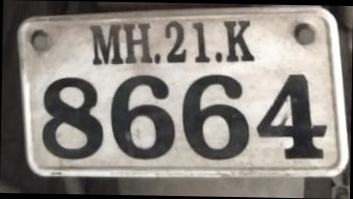character: (255, 72, 328, 158), (181, 73, 250, 160), (110, 72, 176, 160), (40, 75, 103, 160), (88, 22, 124, 65), (121, 20, 153, 64), (223, 18, 253, 63), (164, 20, 188, 65), (190, 20, 210, 63)
